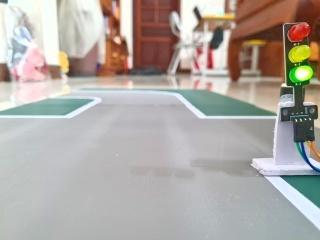green: (274, 15, 317, 102)
